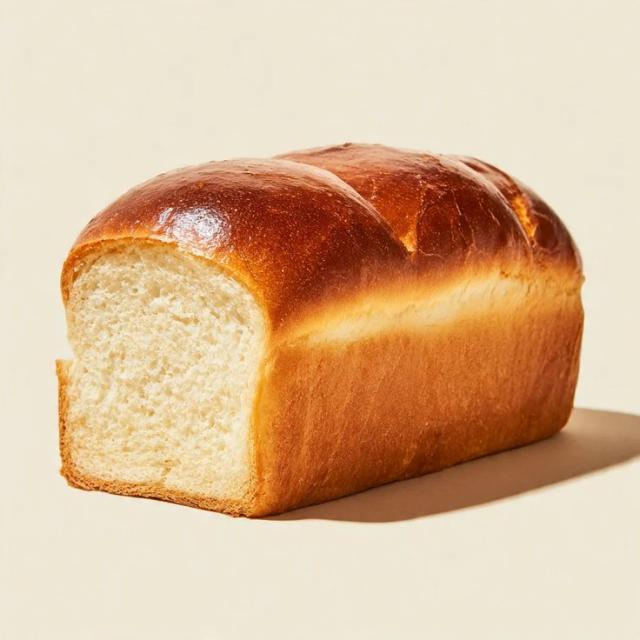bread: (57, 144, 583, 515)
